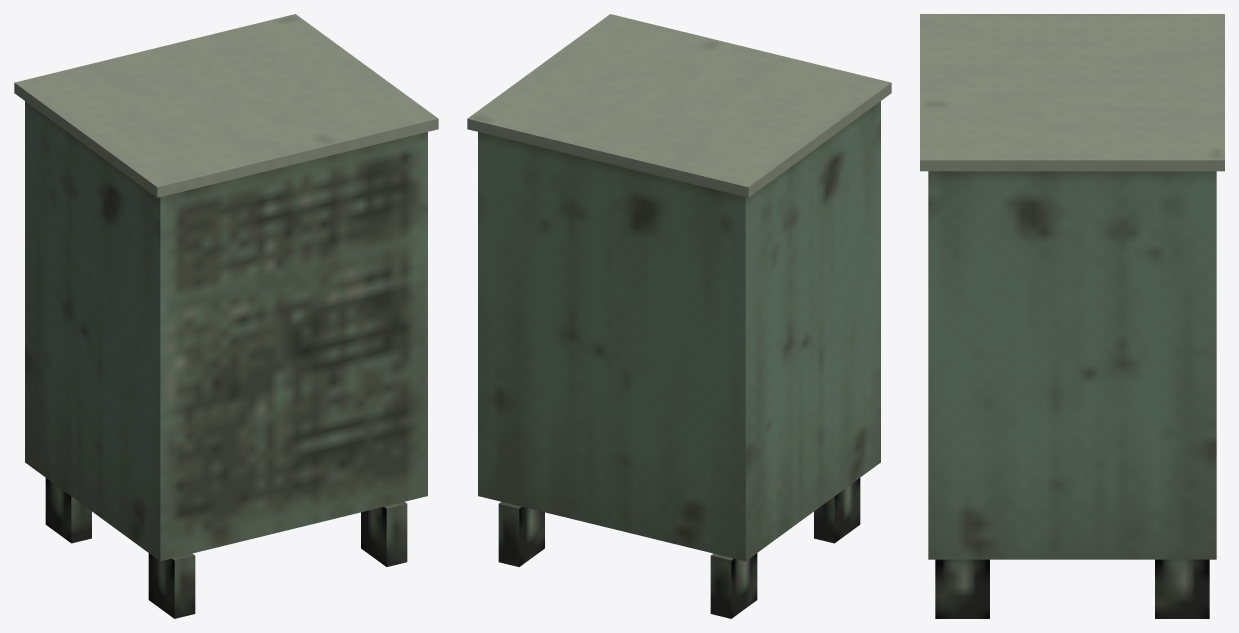
File: Nightstand_01.obj
The picture shows the model from 3 angles, left to right: view 1: azimuth 30°, elevation 25°; view 2: azimuth 150°, elevation 25°; view 3: azimuth 270°, elevation 25°; orthographic projection. The views are drawn at different scales.
Parts seen in each view (by area): view 1: Nightstand_01; view 2: Nightstand_01; view 3: Nightstand_01.
Boxes of the visible parts, <box> form: Nightstand_01: <box>14,14,438,618</box>; Nightstand_01: <box>467,14,891,618</box>; Nightstand_01: <box>920,14,1224,618</box>.
Bounding box in the file's own units: 0.504 × 0.758 × 0.444.
Materials: 1 (1 with a texture image).
